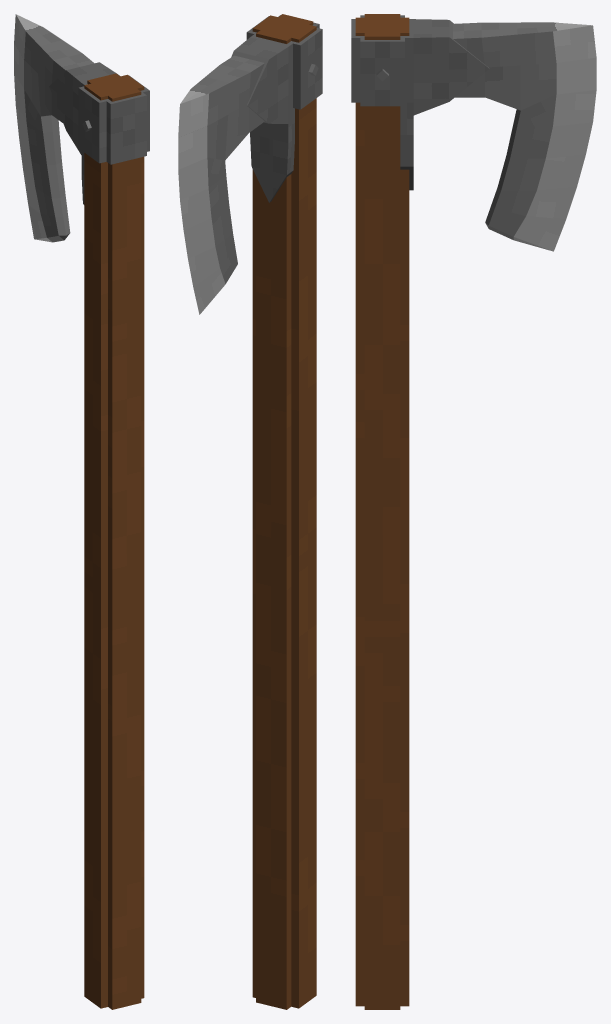
File: greataxe.obj
3 renders of one model, left to right at view 1: azimuth 30°, elevation 25°; view 2: azimuth 150°, elevation 25°; view 3: azimuth 270°, elevation 25°, orthographic. The views are drawn at different scales.
Parts seen in each view (by area): view 1: mash1, mash3, mash9, mash2, mash6, mash8, mash5; view 2: mash1, mash3, mash9, mash2, mash7, mash8, mash5; view 3: mash2, mash9, mash1, mash8, mash4, mash7, mash6.
Part boxes in pixels (left/top/right/bottom): mash1: left=87, top=73, right=141, bottom=1009; mash3: left=84, top=83, right=107, bottom=1008; mash9: left=14, top=14, right=93, bottom=242; mash2: left=120, top=74, right=144, bottom=998; mash6: left=106, top=92, right=146, bottom=164; mash8: left=49, top=62, right=116, bottom=154; mash5: left=78, top=86, right=109, bottom=163; mash1: left=256, top=14, right=313, bottom=1009; mash3: left=291, top=25, right=316, bottom=1008; mash9: left=178, top=55, right=264, bottom=314; mash2: left=252, top=15, right=277, bottom=997; mash7: left=250, top=33, right=294, bottom=202; mash8: left=231, top=37, right=288, bottom=123; mash5: left=290, top=28, right=322, bottom=109; mash2: left=364, top=33, right=400, bottom=1009; mash9: left=453, top=22, right=596, bottom=251; mash1: left=355, top=17, right=409, bottom=1006; mash8: left=413, top=19, right=489, bottom=115; mash4: left=360, top=36, right=404, bottom=106; mash7: left=400, top=19, right=413, bottom=190; mash6: left=351, top=19, right=363, bottom=102.
Size of the model in its own units: 0.125 by 1.88 by 0.4297.
